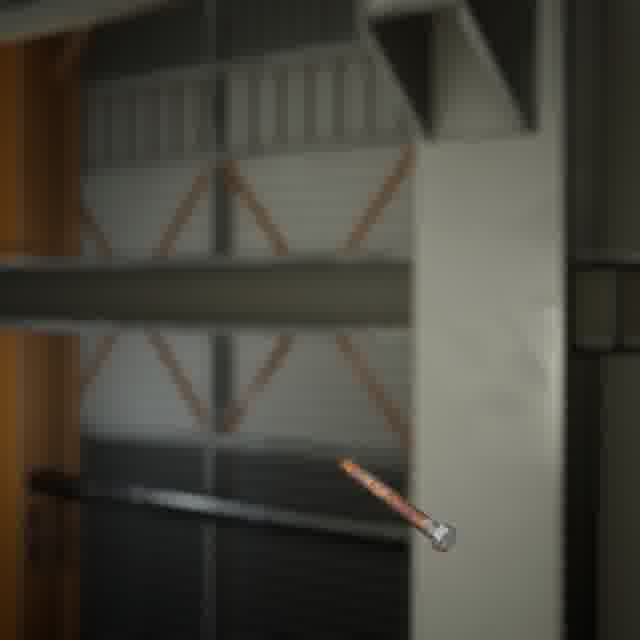bolt: (336, 453, 461, 556)
